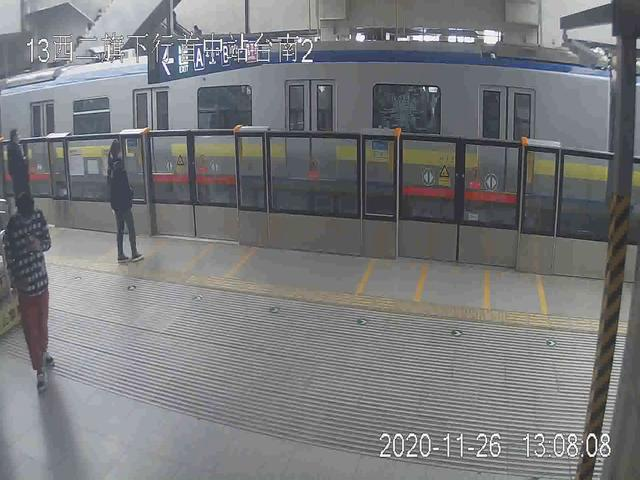person: (5, 190, 55, 396), (103, 137, 143, 267), (5, 126, 41, 234)
